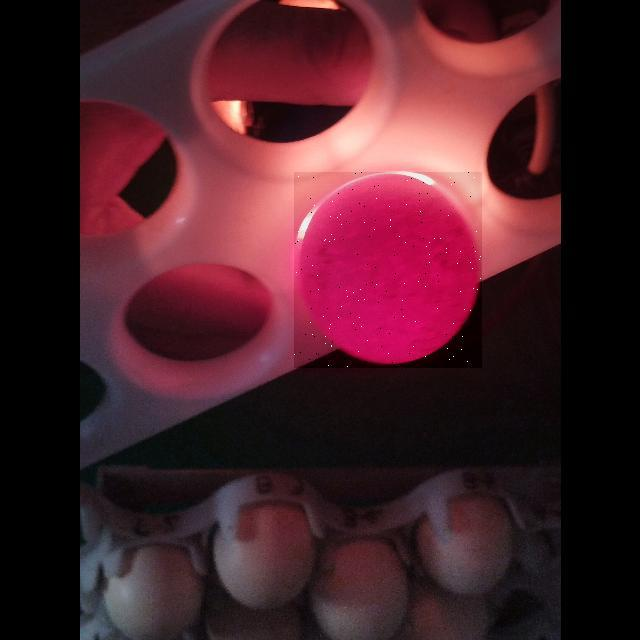Infertile: (294, 172, 482, 368)
